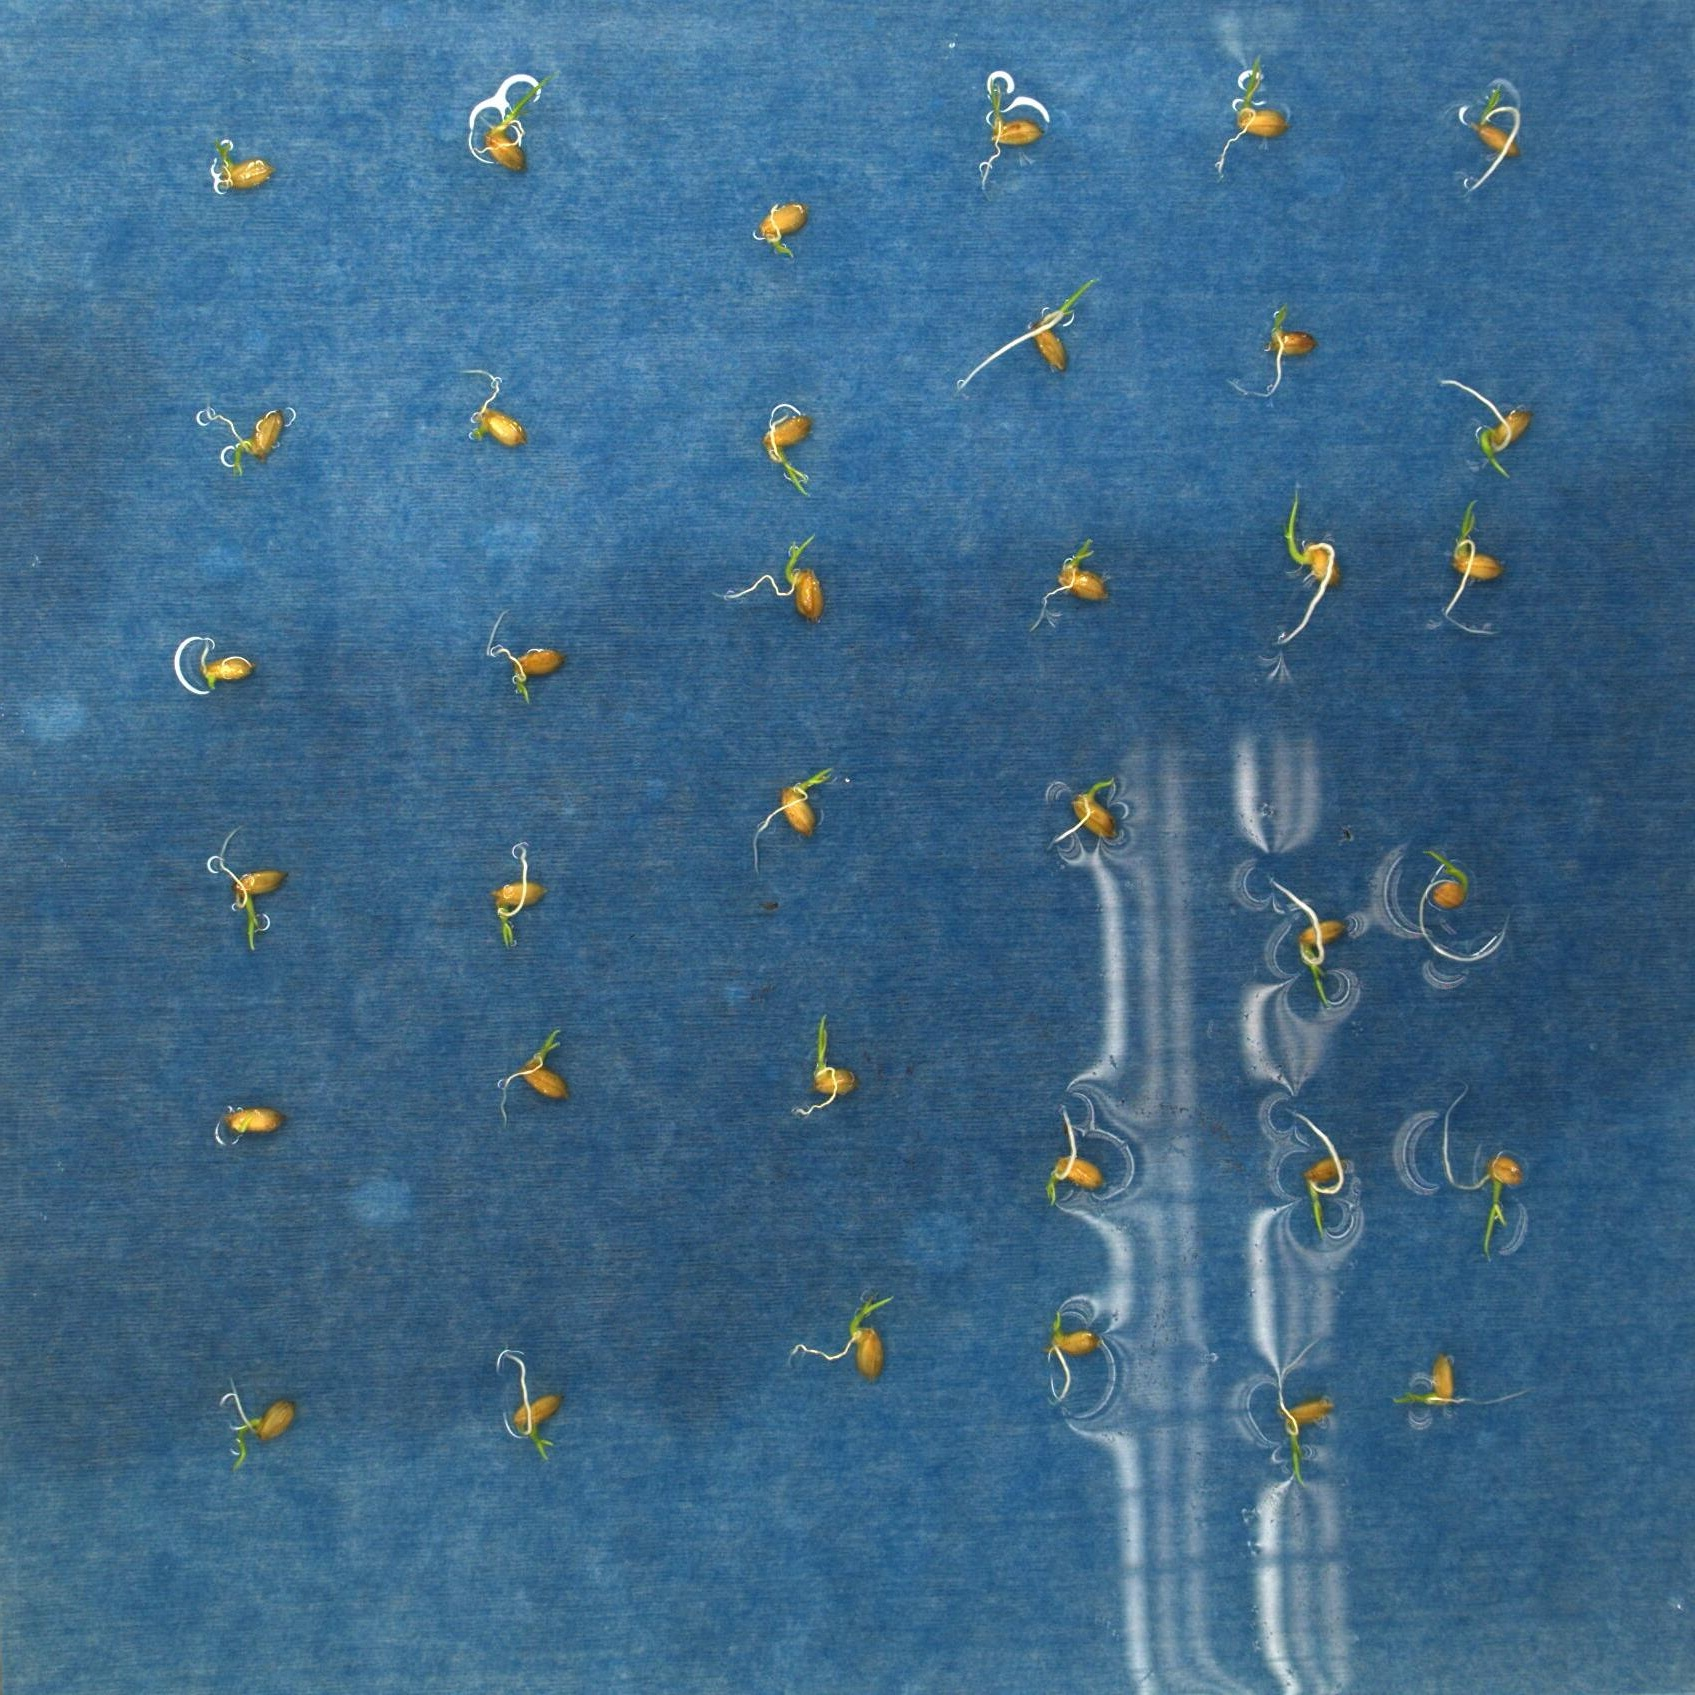not sprout: (439, 354, 543, 453), (477, 608, 581, 706), (1038, 1307, 1107, 1409), (744, 192, 813, 265), (186, 632, 269, 689), (210, 1093, 290, 1146)
sprout: (958, 261, 1113, 400), (1431, 1083, 1534, 1265), (1267, 470, 1358, 652), (1250, 1336, 1343, 1501), (1385, 1343, 1548, 1436), (1263, 874, 1366, 1010), (203, 818, 296, 961), (1430, 492, 1518, 641), (489, 1336, 582, 1468), (1437, 363, 1540, 483), (717, 529, 834, 632), (792, 1285, 900, 1394), (1212, 45, 1293, 185), (1282, 1105, 1360, 1243), (489, 1018, 587, 1127), (778, 1009, 868, 1125), (191, 397, 304, 489), (470, 70, 562, 183), (750, 761, 840, 875), (1231, 300, 1322, 408), (1450, 76, 1527, 200), (969, 78, 1052, 192), (750, 390, 835, 498), (1037, 1096, 1118, 1203), (487, 840, 557, 958), (1034, 532, 1114, 629), (222, 1381, 304, 1467), (1055, 765, 1132, 854), (1397, 844, 1482, 920), (199, 132, 289, 192)
